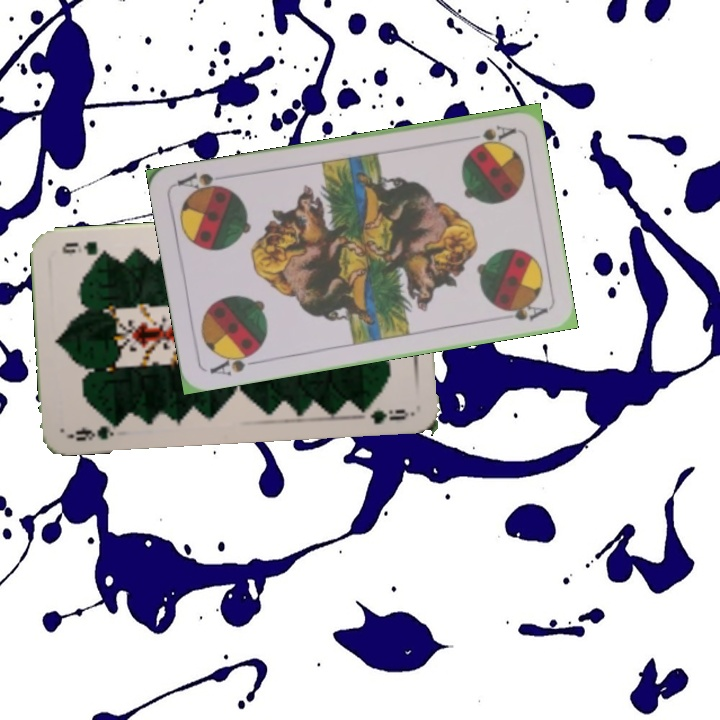G9: (72, 422, 116, 444)
SA: (205, 346, 263, 379), (471, 121, 518, 148)
